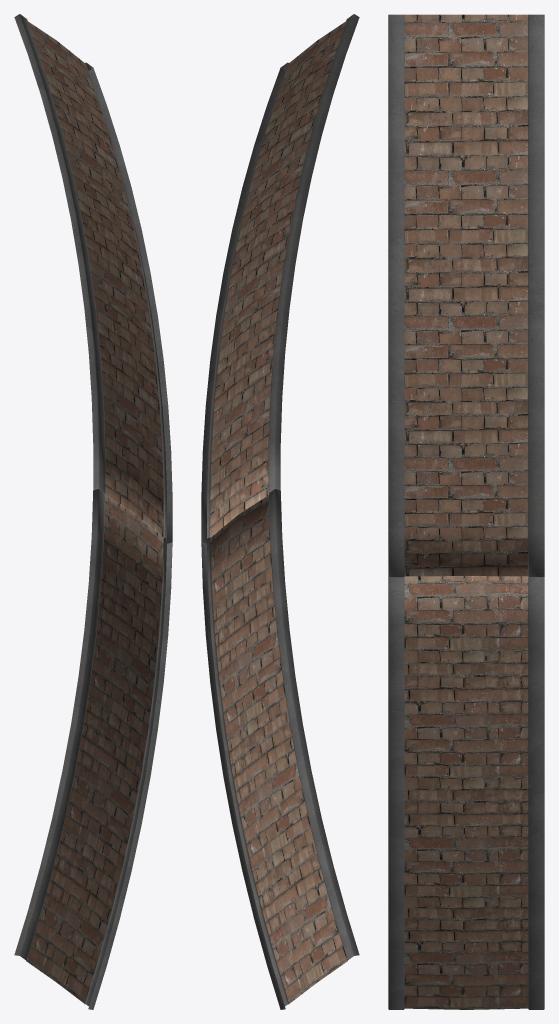
File: cP_Pathway01_Hill.dae
3 views of the same model, side by side, from view 1: azimuth 30°, elevation 25°; view 2: azimuth 150°, elevation 25°; view 3: azimuth 270°, elevation 25° (orthographic). The views are drawn at different scales.
Visible parts, largest first — view 1: cP_Pathway01_Hill.001; view 2: cP_Pathway01_Hill.001; view 3: cP_Pathway01_Hill.001.
Boxes of the visible parts, box(x1,y1,x2,y2) form: cP_Pathway01_Hill.001: box(14, 14, 172, 1009); cP_Pathway01_Hill.001: box(201, 14, 359, 1009); cP_Pathway01_Hill.001: box(388, 14, 544, 1009).
Bounding box in the file's own units: 1.3 × 1.95 × 13.75.
